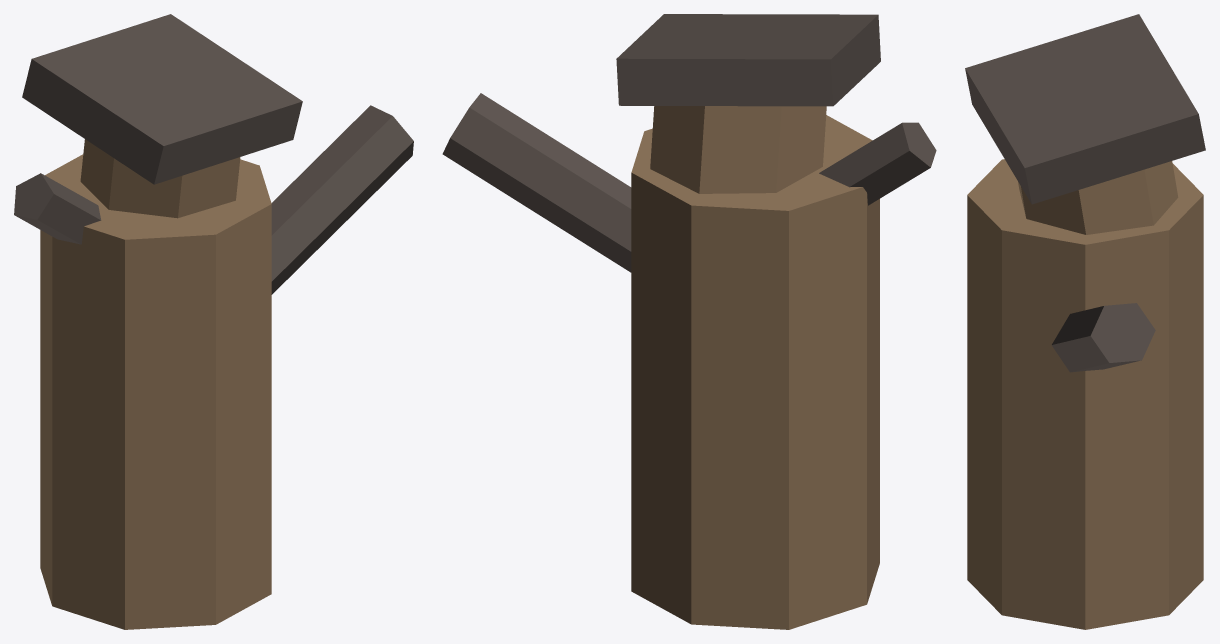
File: prop_stump.glb
3 views of the same model, side by side, from view 1: azimuth 30°, elevation 25°; view 2: azimuth 150°, elevation 25°; view 3: azimuth 270°, elevation 25° (orthographic). The views are drawn at different scales.
Parts seen in each view (by area): view 1: body_trunk, accent_break; view 2: body_trunk, accent_break; view 3: body_trunk, accent_break.
Boxes of the visible parts, x1=… form: body_trunk: x1=40, y1=139, x2=271, y2=629; accent_break: x1=14, y1=14, x2=413, y2=294; body_trunk: x1=631, y1=106, x2=879, y2=629; accent_break: x1=442, y1=14, x2=936, y2=272; body_trunk: x1=967, y1=159, x2=1203, y2=629; accent_break: x1=965, y1=14, x2=1205, y2=372.
Bounding box in the file's own units: 1.3 × 1.55 × 0.6521.
